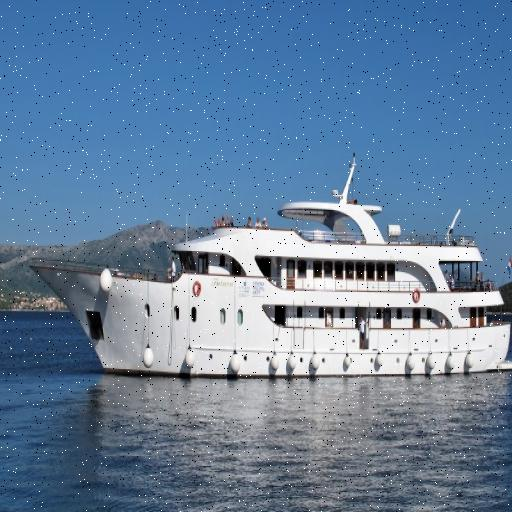cruises: (26, 150, 512, 388)
